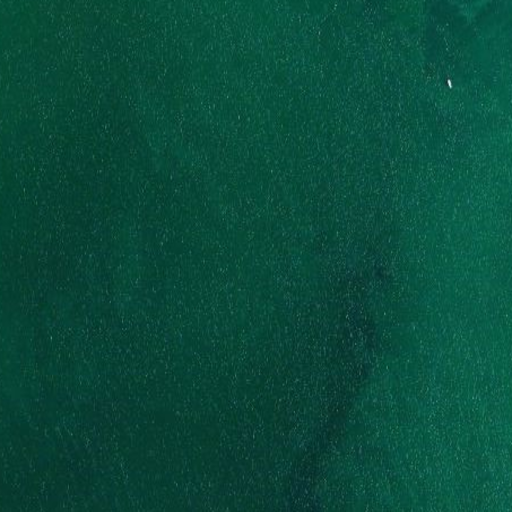ship: (445, 77, 453, 89)
